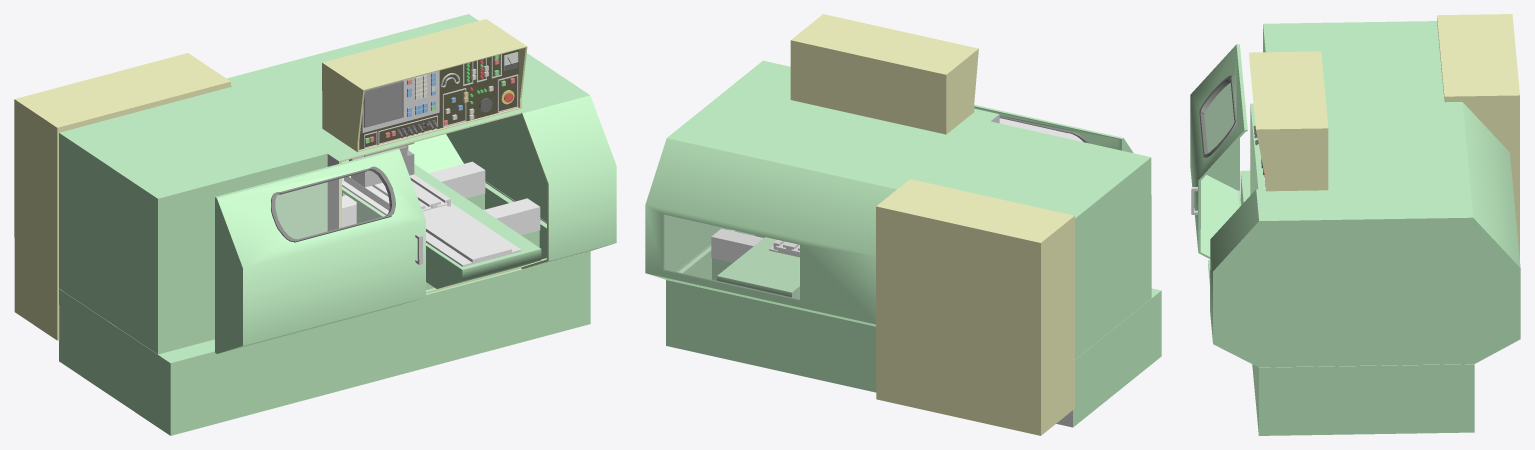
The picture shows the model from 3 angles, left to right: view 1: azimuth 30°, elevation 25°; view 2: azimuth 150°, elevation 25°; view 3: azimuth 270°, elevation 25°; orthographic projection. The views are drawn at different scales.
Visible parts, largest first — view 1: Shape_IndexedFaceSet.128, Shape_IndexedFaceSet.123, Shape_IndexedFaceSet.003, Shape_IndexedFaceSet.129, Shape_IndexedFaceSet.101, Shape_IndexedFaceSet.002, Shape_IndexedFaceSet.116, Shape_IndexedFaceSet.100, Shape_IndexedFaceSet.117, Shape_IndexedFaceSet.119, Shape_IndexedFaceSet.103, Shape_IndexedFaceSet.115 (+6 smaller); view 2: Shape_IndexedFaceSet.128, Shape_IndexedFaceSet.129, Shape_IndexedFaceSet.123, Shape_IndexedFaceSet.101, Shape_IndexedFaceSet, Shape_IndexedFaceSet.116, Shape_IndexedFaceSet.003, Shape_IndexedFaceSet.119; view 3: Shape_IndexedFaceSet.128, Shape_IndexedFaceSet.123, Shape_IndexedFaceSet.101, Shape_IndexedFaceSet.129, Shape_IndexedFaceSet.003, Shape_IndexedFaceSet.002, Shape_IndexedFaceSet.004.
Boxes of the visible parts, box(x1,y1,x2,y2) form: Shape_IndexedFaceSet.128: box(59, 14, 616, 354); Shape_IndexedFaceSet.123: box(59, 183, 590, 435); Shape_IndexedFaceSet.003: box(215, 148, 425, 353); Shape_IndexedFaceSet.129: box(14, 53, 230, 340); Shape_IndexedFaceSet.101: box(322, 19, 527, 152); Shape_IndexedFaceSet.002: box(276, 170, 389, 238); Shape_IndexedFaceSet.116: box(342, 160, 541, 288); Shape_IndexedFaceSet.100: box(359, 49, 518, 149); Shape_IndexedFaceSet.117: box(342, 181, 521, 266); Shape_IndexedFaceSet.119: box(342, 161, 485, 227); Shape_IndexedFaceSet.103: box(363, 80, 403, 127); Shape_IndexedFaceSet.115: box(344, 174, 450, 211); Shape_IndexedFaceSet.128: box(645, 60, 1151, 359); Shape_IndexedFaceSet.129: box(876, 179, 1074, 435); Shape_IndexedFaceSet.123: box(666, 229, 1161, 427); Shape_IndexedFaceSet.101: box(790, 14, 978, 134); Shape_IndexedFaceSet: box(663, 215, 799, 299); Shape_IndexedFaceSet.116: box(717, 237, 799, 299); Shape_IndexedFaceSet.003: box(974, 104, 1133, 153); Shape_IndexedFaceSet.119: box(711, 228, 763, 262); Shape_IndexedFaceSet.128: box(1210, 21, 1520, 367); Shape_IndexedFaceSet.123: box(1240, 170, 1474, 435); Shape_IndexedFaceSet.101: box(1249, 51, 1328, 191); Shape_IndexedFaceSet.129: box(1437, 14, 1519, 259); Shape_IndexedFaceSet.003: box(1190, 44, 1247, 258); Shape_IndexedFaceSet.002: box(1204, 83, 1233, 152); Shape_IndexedFaceSet.004: box(1199, 75, 1236, 157).
Bounding box in the file's own units: 38.11 × 24.23 × 26.18.
